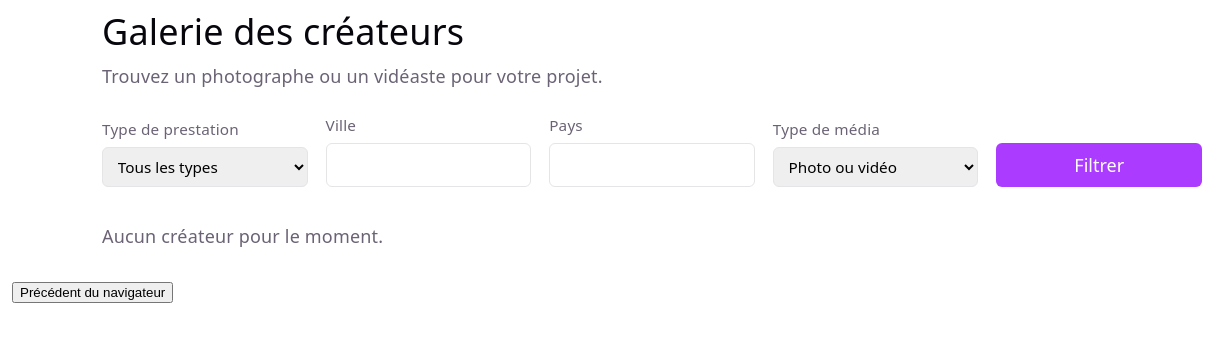
Test case: Galerie — filtres (#14) › Filtrer met les filtres dans l'URL et repart de la première page
Type " Belgique " into the field labelled "Pays".
click(652, 165); type(" Belgique ")  # box x1=549 y1=143 x2=755 y2=188
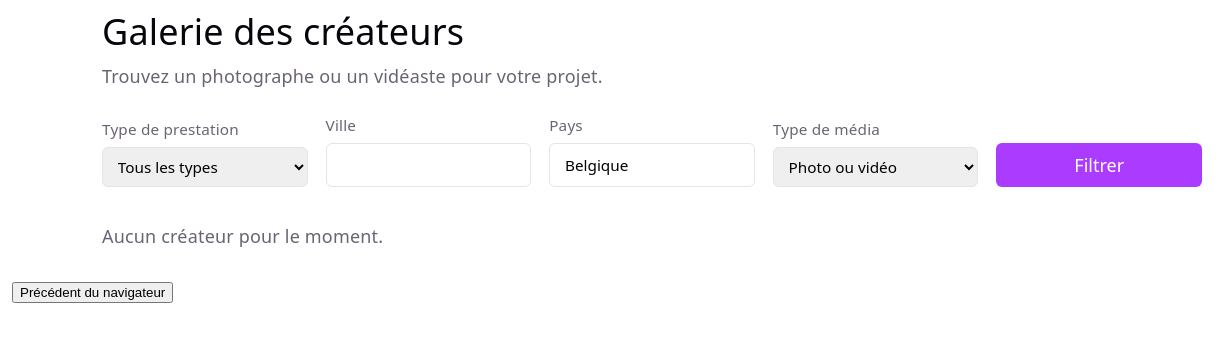
Select "Mariage" in the dropdown labelled "Type de prestation" at {"x": 205, "y": 167}, box x1=102 y1=147 x2=308 y2=188
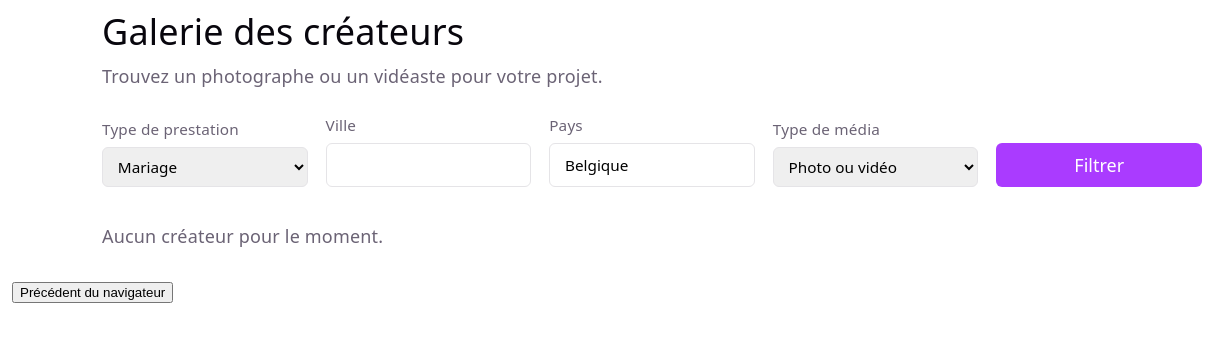
Select "Photo" in the dropdown labelled "Type de média" at {"x": 876, "y": 167}, box x1=773 y1=147 x2=978 y2=188
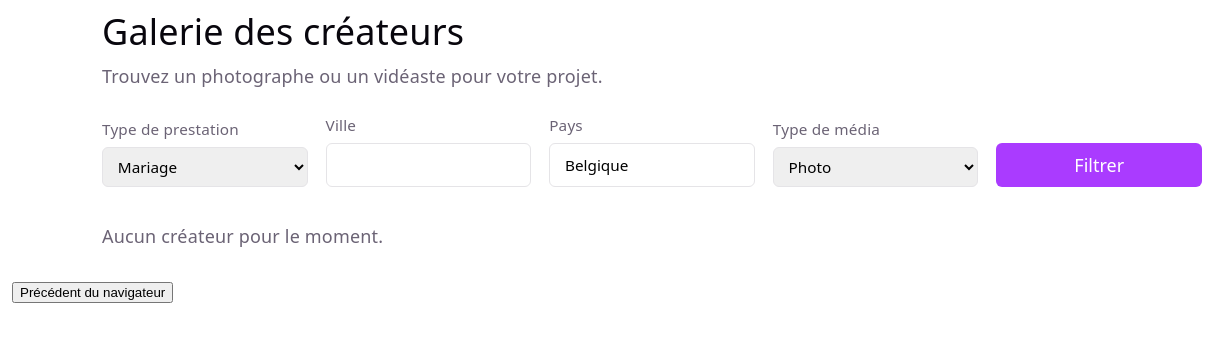
Click the button "Filtrer".
click(1099, 165)  # box x1=996 y1=143 x2=1202 y2=188
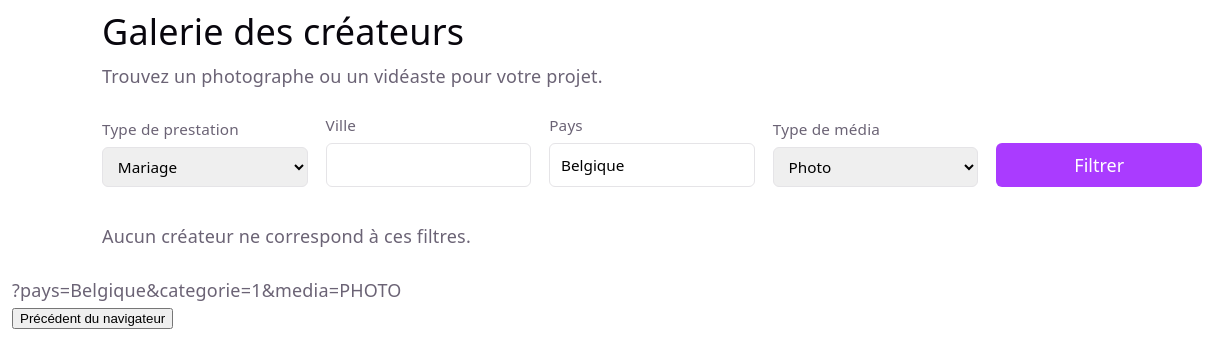
Expected: the text with test id "url" reads "?pays=Belgique&categorie=1&media=PHOTO", x1=12 y1=278 x2=402 y2=302
